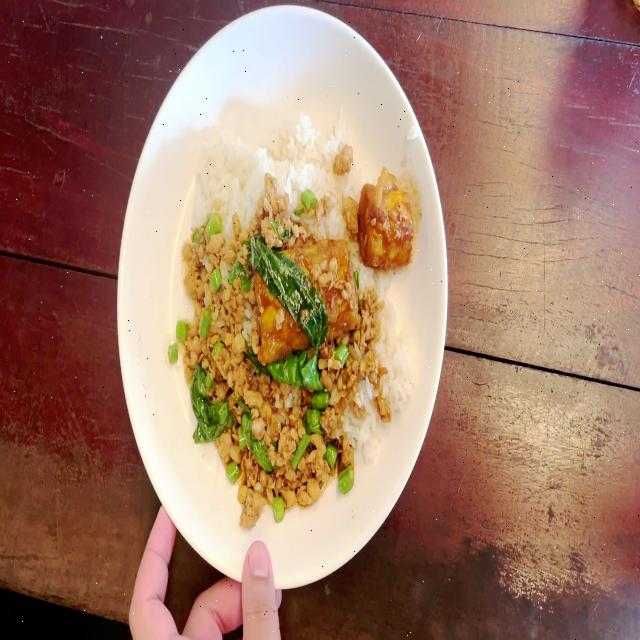fried_tofo: (258, 249, 354, 341), (360, 186, 412, 267)
minced_pork: (182, 262, 255, 529), (253, 359, 336, 522), (184, 186, 307, 268), (326, 348, 392, 430), (358, 294, 379, 382)
rice: (195, 128, 258, 222), (262, 115, 326, 189)
stir_fried_basil: (175, 113, 418, 525)
